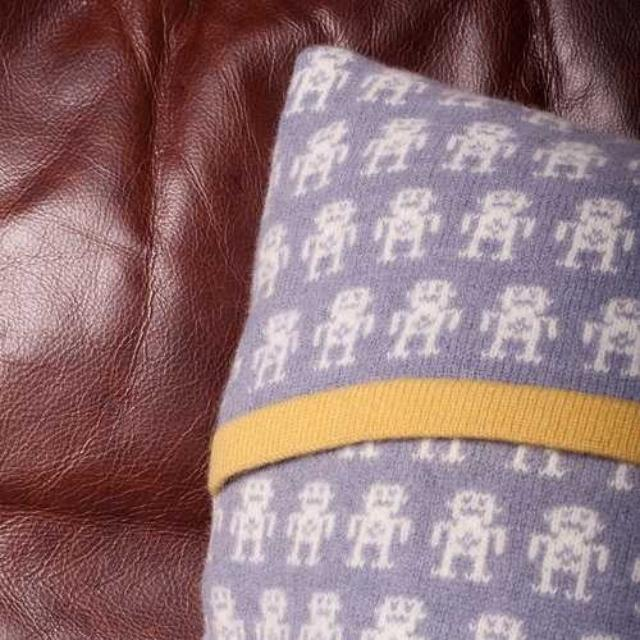pillow: (194, 42, 638, 638)
